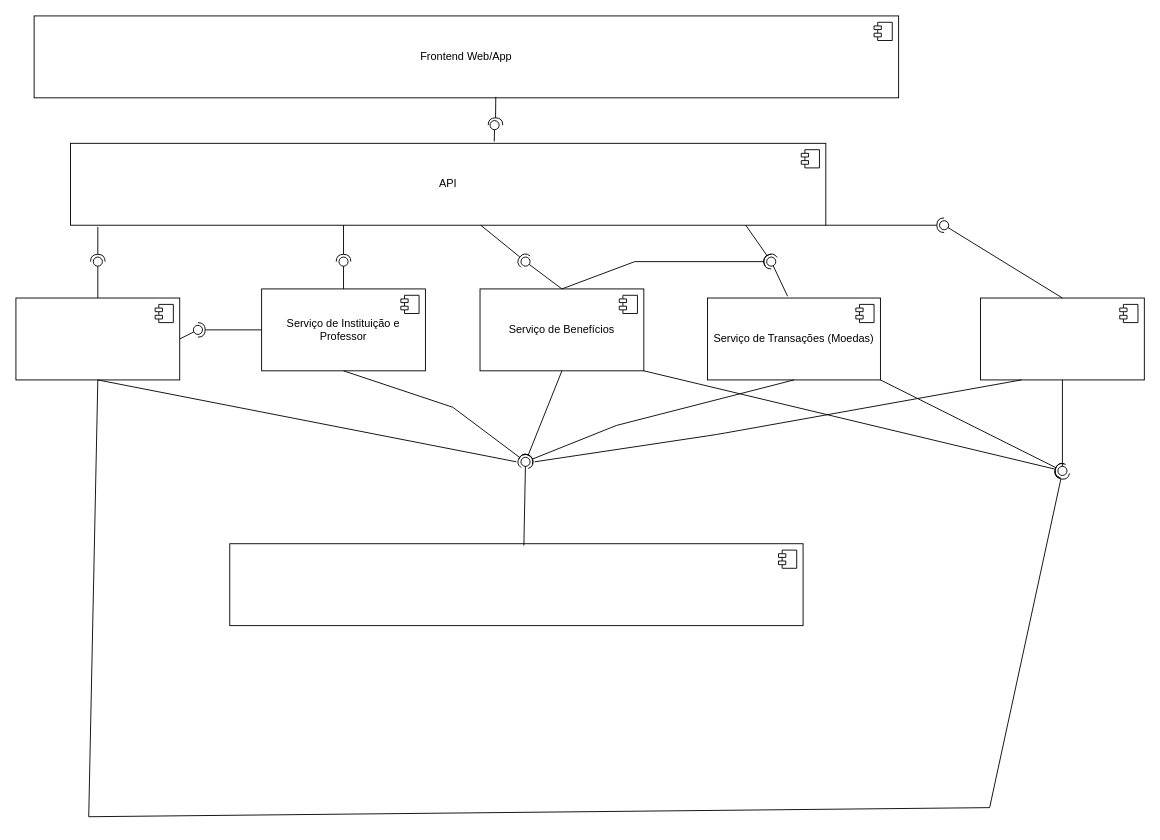
The diagram is 1160 pixels wide and 840 high, and some of its shapes have lost their labels. The shapes that lost their labels are listed below. From the top down, each one's box as (x1, y1, x2, y2) in pixels, then its label:
(15, 297, 180, 380): Serviço de Usuário e Autenticação
(980, 297, 1144, 380): Serviço de Notificação ( E mail)
(229, 543, 803, 626): SGBD
